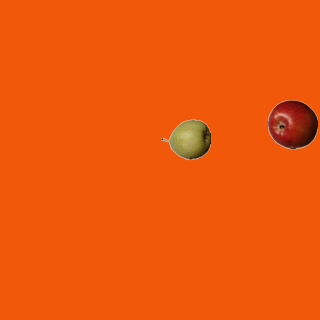Apple Braeburn: (267, 99, 317, 149)
Pear: (160, 114, 210, 164)
